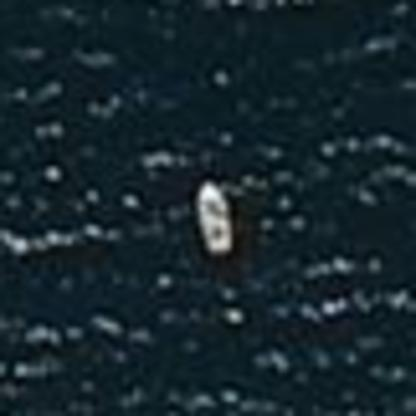ship: (182, 172, 244, 264)
